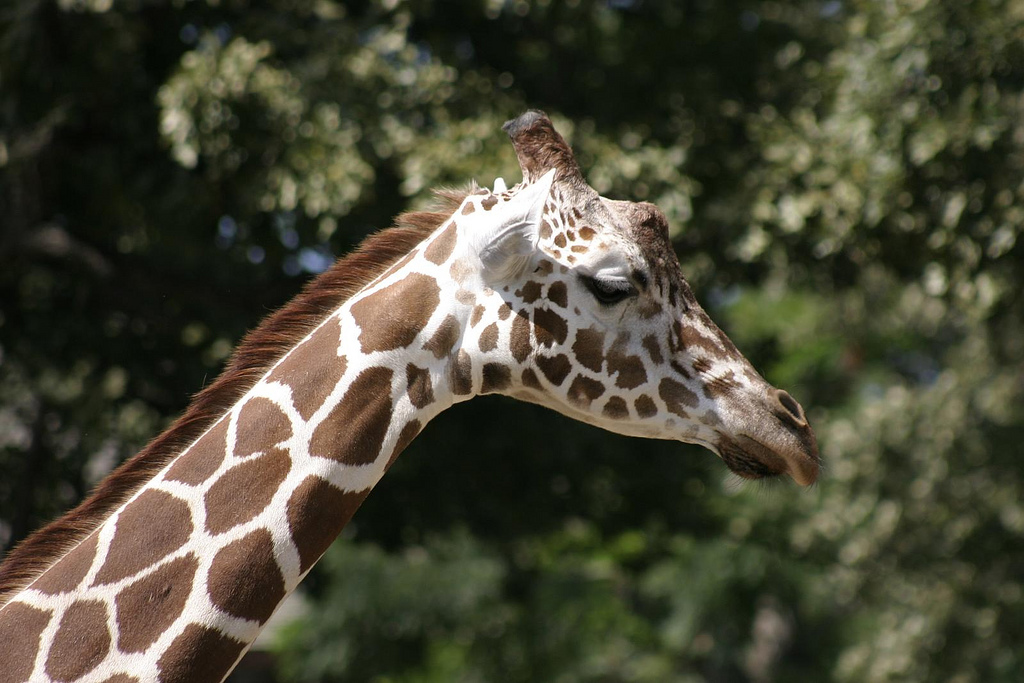giraffe: (26, 88, 815, 668)
